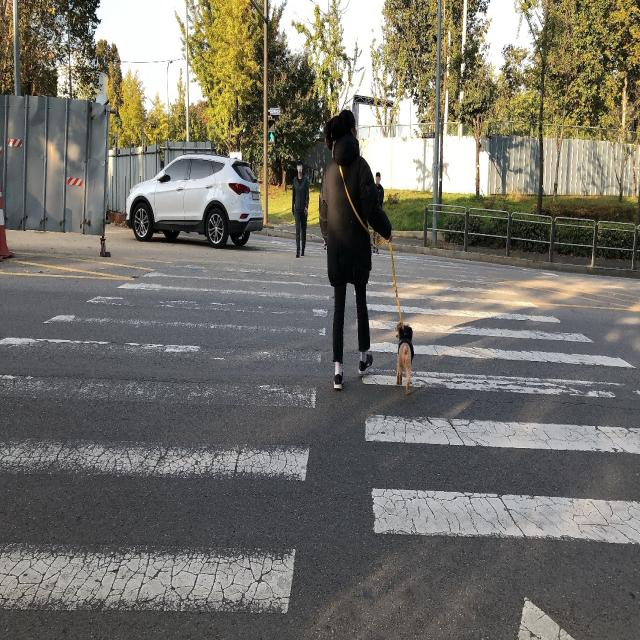초록불: (267, 118, 276, 145)
횡단보도: (0, 242, 640, 640)
